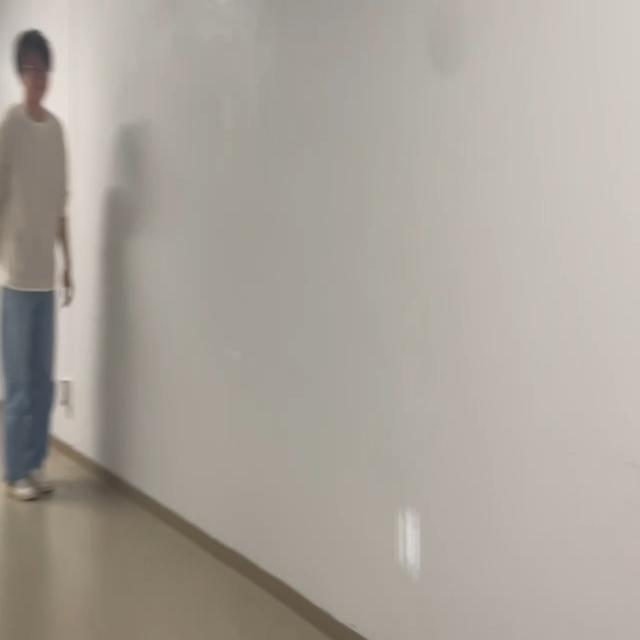paper: (392, 502, 424, 585)
